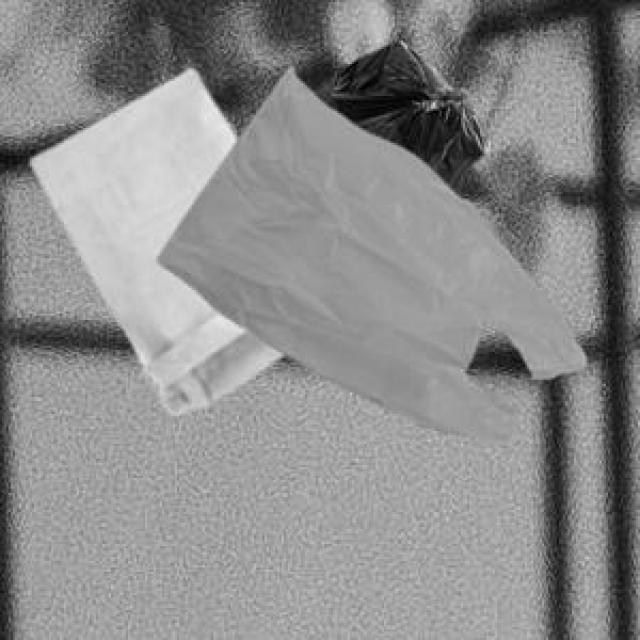miscellaneous trash: (307, 38, 486, 192)
paper: (28, 66, 280, 410)
